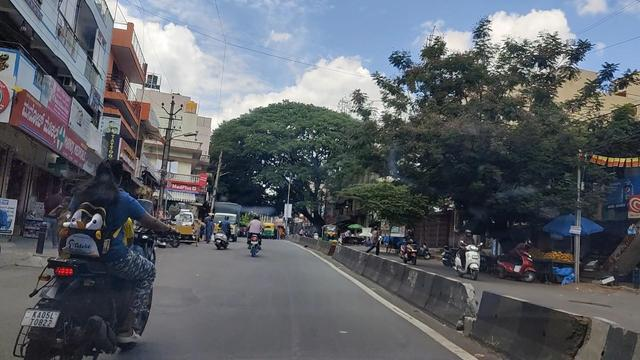LMV: (24, 173, 161, 360)
